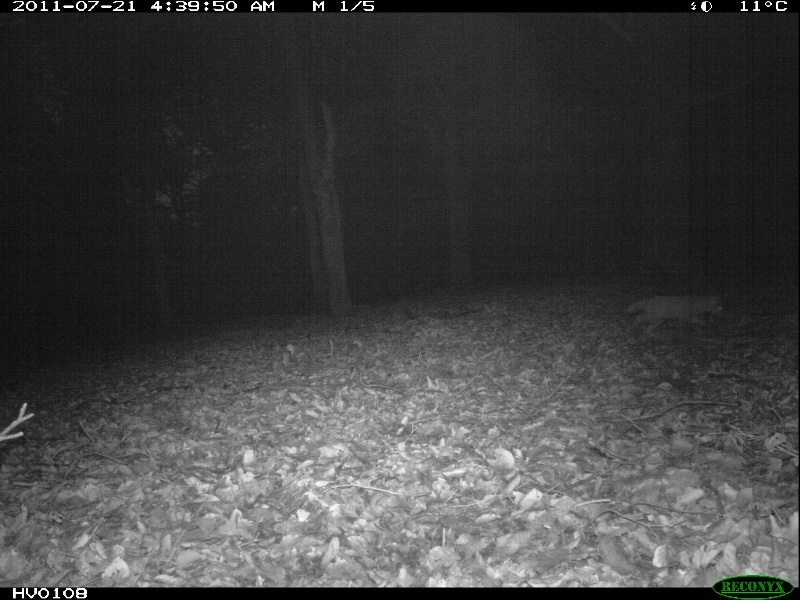fox: (625, 294, 724, 346)
